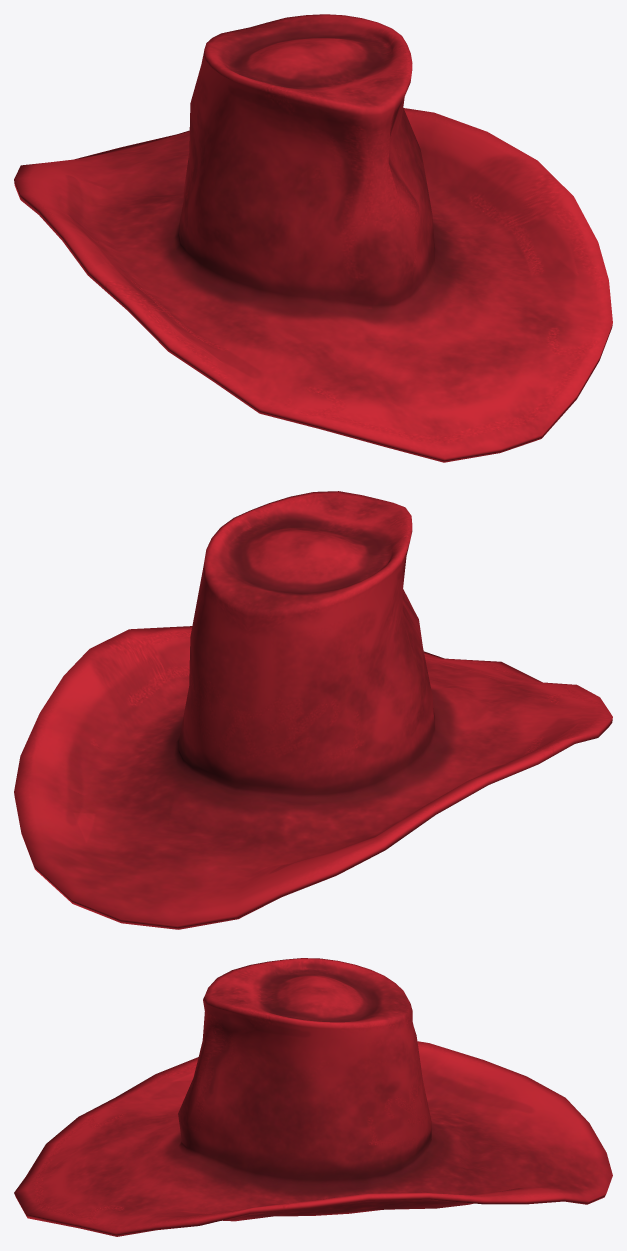
Rendered from HugoCowboyHat5.fbx.
3 renders of one model, top to bottom at view 1: azimuth 30°, elevation 25°; view 2: azimuth 150°, elevation 25°; view 3: azimuth 270°, elevation 25°, orthographic. The views are drawn at different scales.
Parts seen in each view (by area): view 1: fredora low; view 2: fredora low; view 3: fredora low.
Boxes of the visible parts, x1,y1,x2,y2 form: fredora low: (14,14,612,462); fredora low: (14,491,612,929); fredora low: (14,958,612,1236).
Bounding box in the file's own units: 409 × 233 × 599.
1 material, 1 textured.
